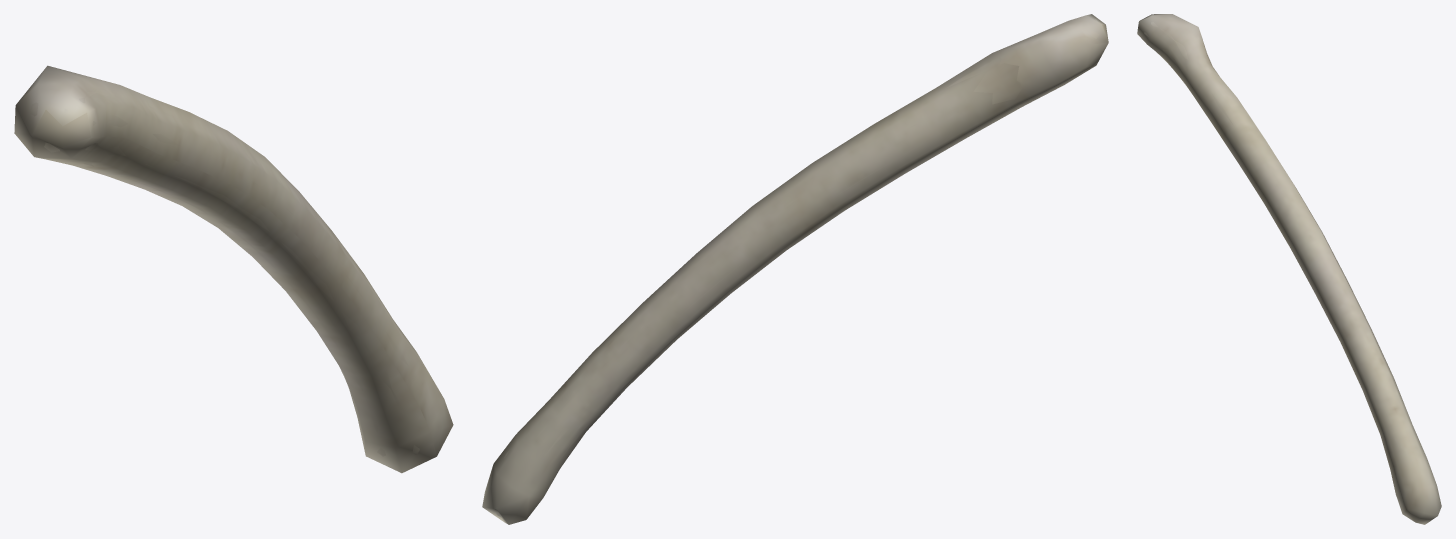
The model's file is Rib L12.fbx.
3 views of the same model, side by side, from view 1: azimuth 30°, elevation 25°; view 2: azimuth 150°, elevation 25°; view 3: azimuth 270°, elevation 25° (orthographic). The views are drawn at different scales.
Parts seen in each view (by area): view 1: Rib L12 low, Rib L12; view 2: Rib L12 low, Rib L12; view 3: Rib L12 low, Rib L12.
Part boxes in pixels (x1,y1,x2,y2): Rib L12 low: (14, 65, 453, 473); Rib L12: (30, 88, 419, 456); Rib L12 low: (482, 14, 1108, 524); Rib L12: (496, 19, 1099, 517); Rib L12 low: (1137, 14, 1441, 524); Rib L12: (1144, 17, 1424, 477).
Size of the model in its own units: 3.24 by 3.29 by 2.53.
Materials: 1 (1 with a texture image).
